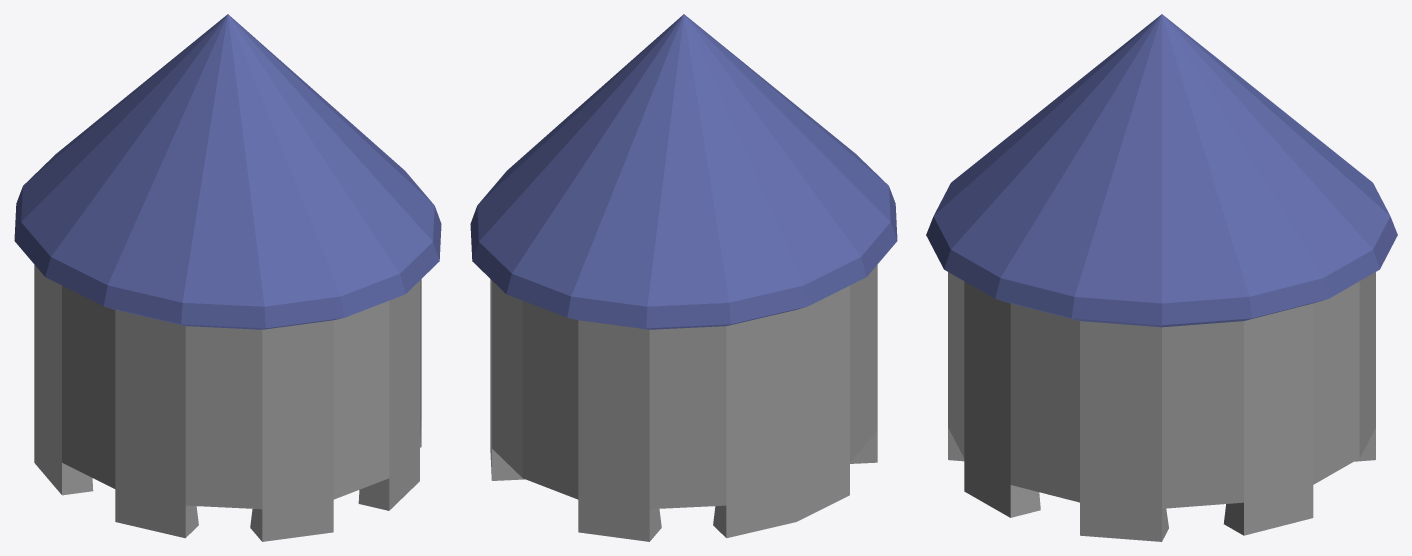
File: expansion_2_3.fbx
The picture shows the model from 3 angles, left to right: view 1: azimuth 30°, elevation 25°; view 2: azimuth 150°, elevation 25°; view 3: azimuth 270°, elevation 25°; orthographic projection.
Parts seen in each view (by area): view 1: Expansion2_1.001; view 2: Expansion2_1.001; view 3: Expansion2_1.001.
Part boxes in pixels (x1,y1,x2,y2): Expansion2_1.001: [14, 14, 441, 541]; Expansion2_1.001: [470, 14, 897, 541]; Expansion2_1.001: [926, 14, 1397, 541].
Size of the model in its own units: 149 by 172 by 165.
